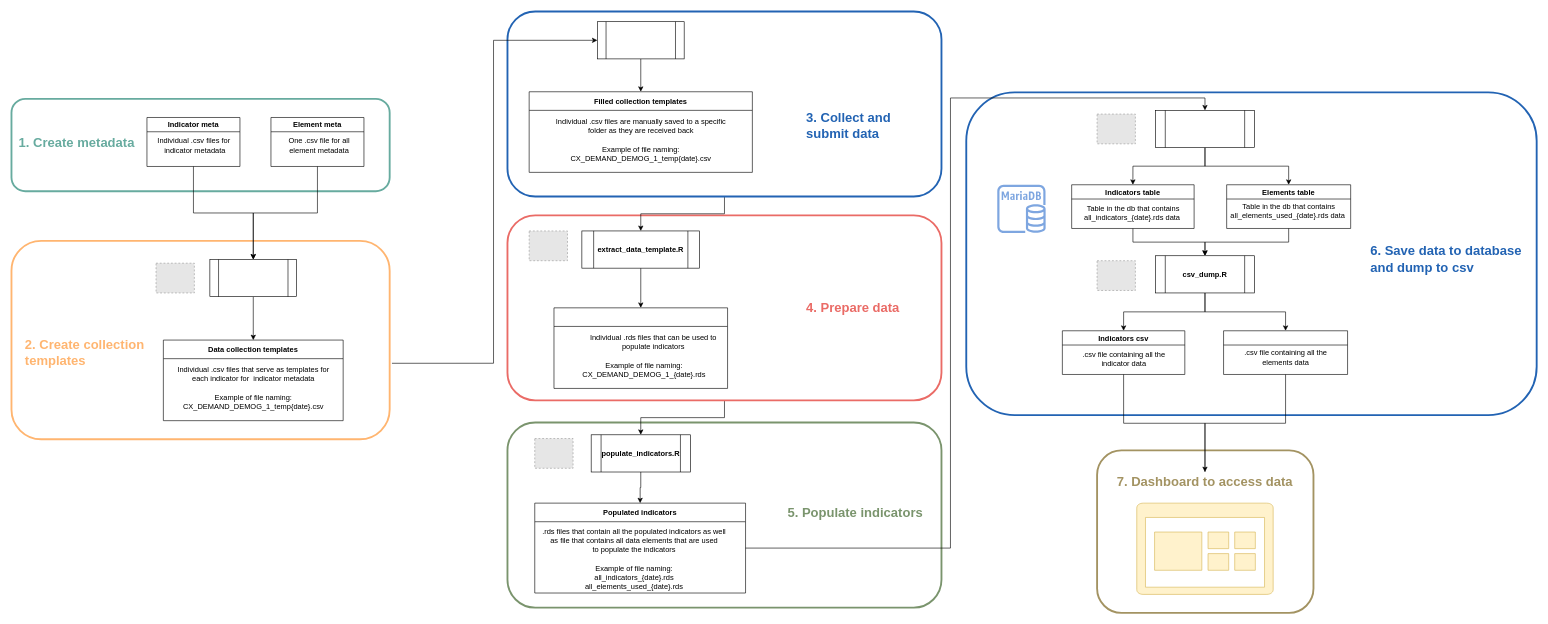
This 1548x624 diagram has some shape labels left out. Grey dashed boxes stand in for pictures. The box of each missing label's shape, as (x1, y1, x2, y2) in pixels:
Elements csv: (1223, 330, 1348, 374)
make_template.R: (209, 259, 297, 297)
Manual collection of data: (597, 21, 684, 59)
Prepared data: (553, 307, 728, 388)
save_indicators_db.R: (1155, 110, 1255, 148)
